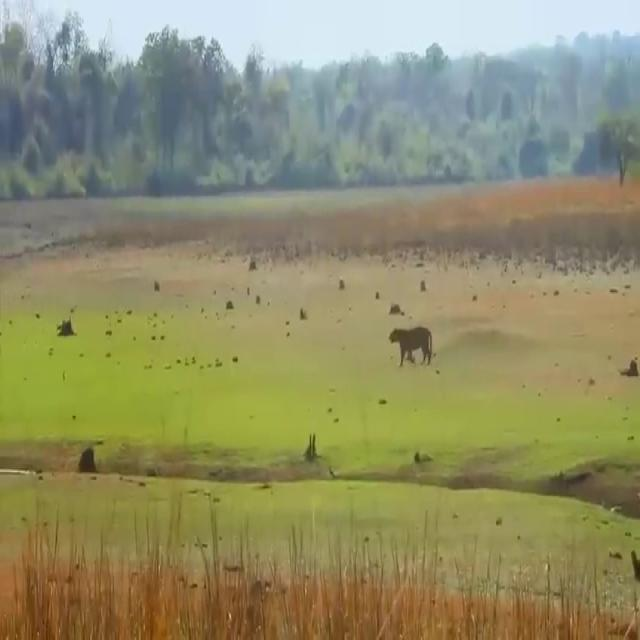tiger: (388, 326, 432, 366)
